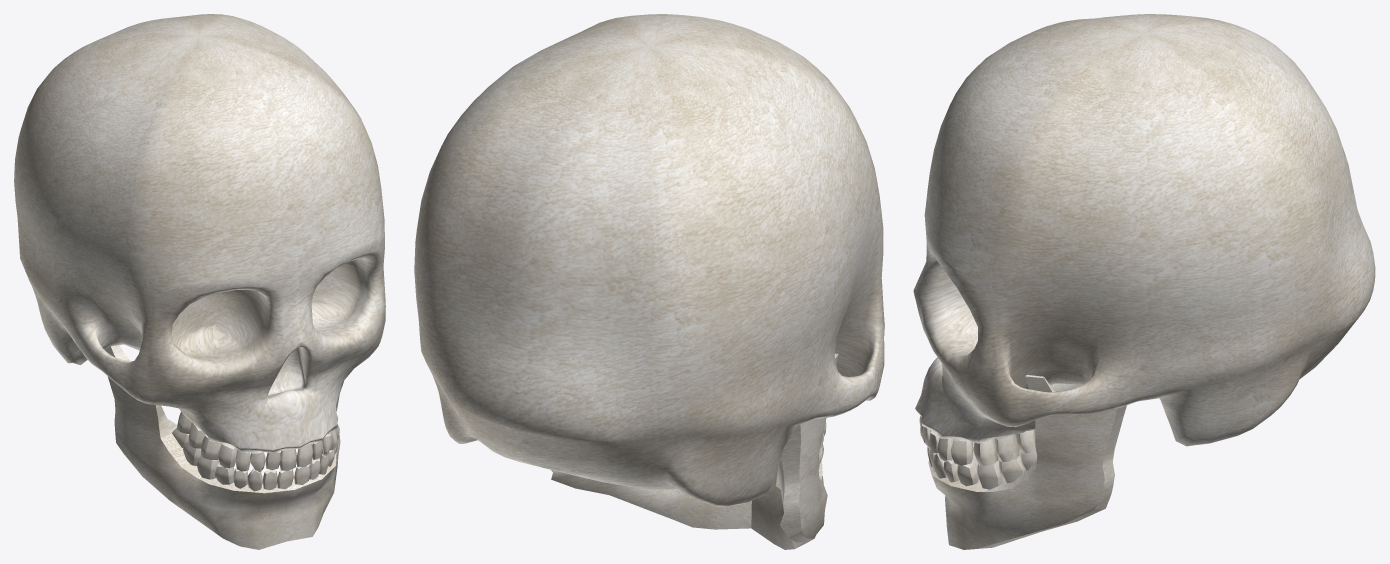
The model's file is Skull.fbx.
3 views of the same model, side by side, from view 1: azimuth 30°, elevation 25°; view 2: azimuth 150°, elevation 25°; view 3: azimuth 270°, elevation 25° (orthographic). The views are drawn at different scales.
Parts seen in each view (by area): view 1: skull, jaw, teeth; view 2: skull, jaw; view 3: skull, jaw, teeth.
Part boxes in pixels (<box>): skull: <box>14,14,385,452</box>; jaw: <box>104,345,340,549</box>; teeth: <box>172,412,339,491</box>; skull: <box>414,14,884,507</box>; jaw: <box>551,353,838,549</box>; skull: <box>913,14,1375,446</box>; jaw: <box>928,375,1126,549</box>; teeth: <box>919,416,1037,489</box>.
Size of the model in its own units: 0.0113 by 0.0162 by 0.0137.
1 material, 1 textured.
